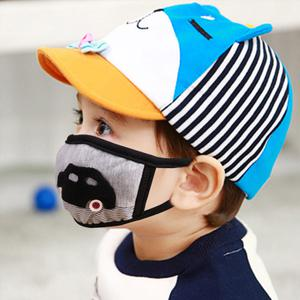OK: (56, 101, 186, 231)
